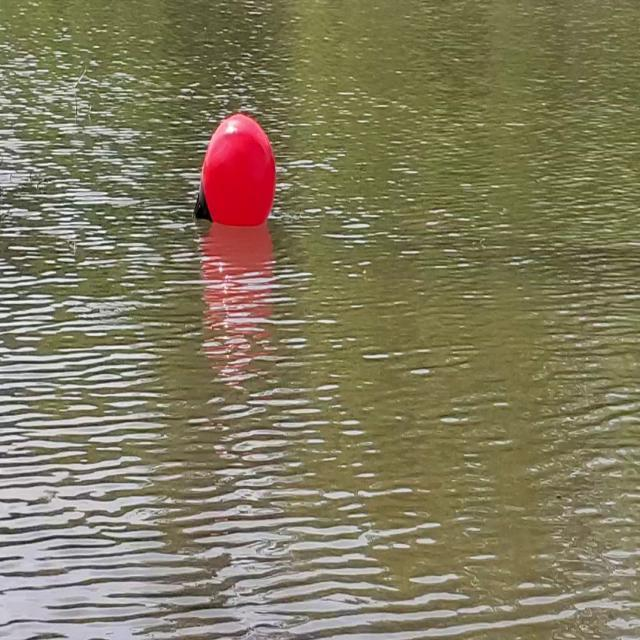buoy: (192, 113, 276, 227)
